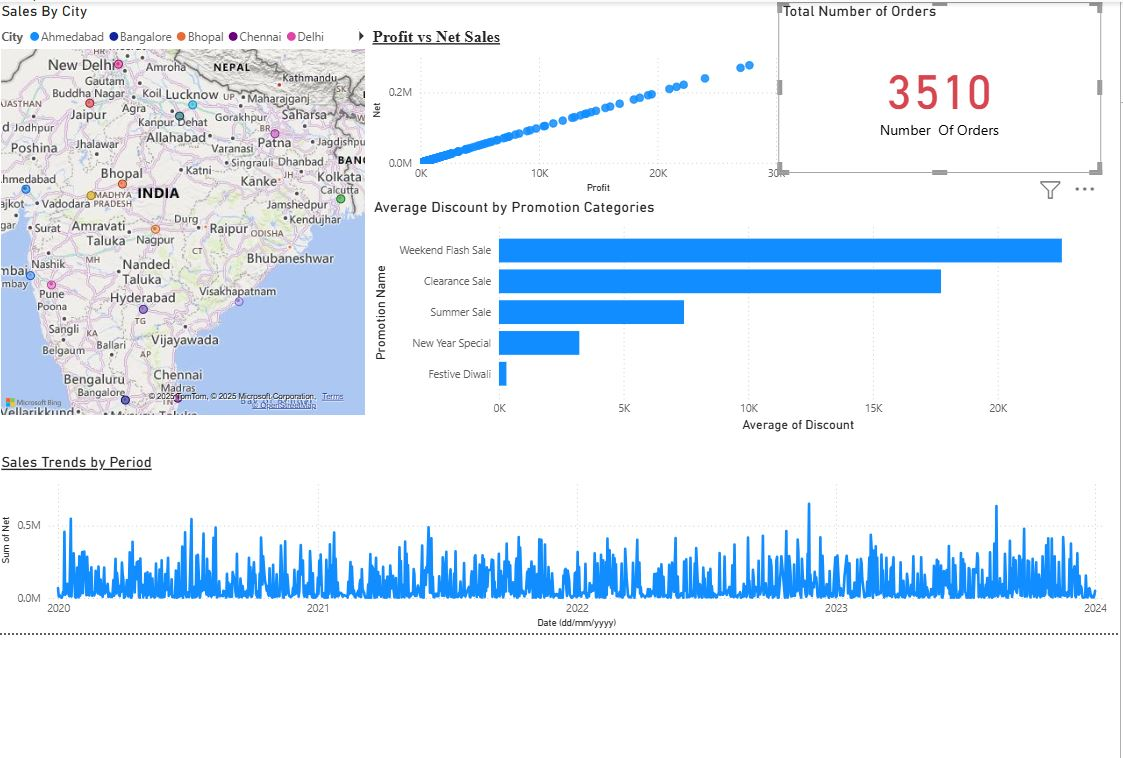

What the dashboard file says about the page in this screenshot:
{"tool":"powerbi","page":{"name":"Overview","canvas":[1280,720],"ordinal":0},"visuals":[{"type":"lineChart","title":"Sales Trends by Period","fields":{"Y":["Fact Table.Net"],"Category":["Fact Table.Date (dd/mm/yyyy).Variation.Date Hierarchy.Year"]},"box":[0,515.2,1270.4,205.1],"z":0},{"type":"scatterChart","title":"Profit vs Net Sales","fields":{"X":["Fact Table.Profit"],"Y":["Fact Table.Net"]},"box":[422.6,28.8,480.3,194.9],"z":1},{"type":"barChart","title":"Average Discount by Promotion Categories","fields":{"Y":["Fact Table.Discount"],"Category":["Dim Promotion.Promotion Name"]},"box":[425.4,223.7,845.3,271.7],"z":2},{"type":"map","title":"Sales By City","fields":{"Category":["Dim Customers.City"],"Series":["Dim Customers.City"]},"box":[0,0,425.4,476.2],"z":3},{"type":"card","fields":{"Values":["Fact Table.Order"]},"box":[890.6,0,367.8,194.9],"z":4}]}

Visuals, with their boxes on the page's 1280x720 design canvas (x1, y1, x2, y2). These are canvas units, not pixel positions in the 1123x758 screenshot, which may show the page scaled, cropped or inside an application window:
"Sales Trends by Period" lineChart: 0:515:1270:720
"Profit vs Net Sales" scatterChart: 423:29:903:224
"Average Discount by Promotion Categories" barChart: 425:224:1271:495
"Sales By City" map: 0:0:425:476
card - Fact Table.Order: 891:0:1258:195
